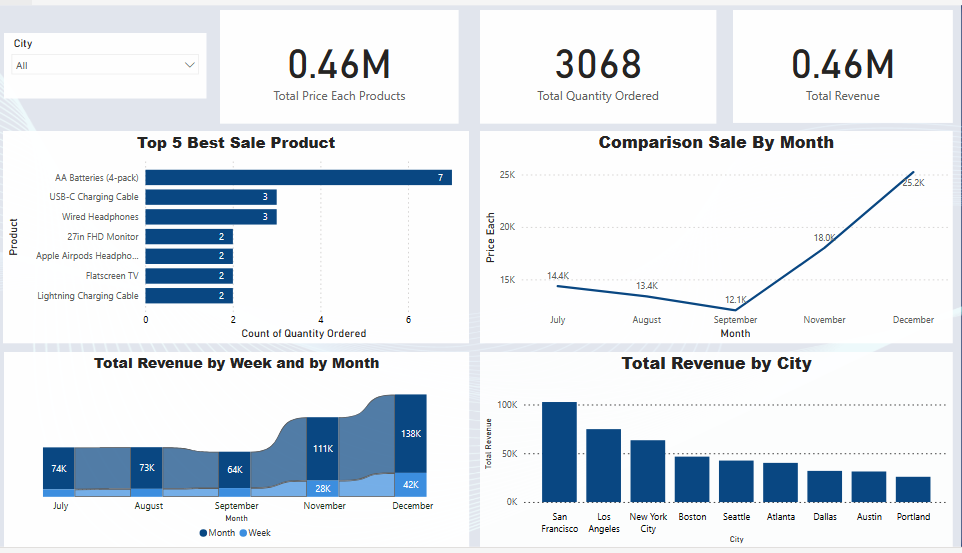

What the dashboard file says about the page in this screenshot:
{"tool":"powerbi","page":{"name":"visualisation","canvas":[1280,720],"ordinal":0},"visuals":[{"type":"card","fields":{"Values":["Sum(final_data_city.Price Each)"]},"box":[295.3,6.7,317.1,151],"z":0},{"type":"card","fields":{"Values":["Sum(final_data_city.Quantity Ordered)"]},"box":[640.8,6.7,313.7,151],"z":1000},{"type":"card","fields":{"Values":["Sum(final_data_city.Total Revenue)"]},"box":[976,7.1,292,150.2],"z":2000},{"type":"clusteredBarChart","title":"Top 5 Best Sale Product","fields":{"Category":["final_data_city.Product"],"Y":["Count(final_data_city.Quantity Ordered)"]},"box":[7.1,167.2,619.4,282],"z":3000},{"type":"lineChart","title":"Comparison Sale By Month","fields":{"Category":["final_data_city.Order Date.Variation.Date Hierarchy.Month"],"Y":["Sum(final_data_city.Price Each)"]},"box":[640.6,167.2,627.9,282],"z":4000},{"type":"ribbonChart","title":"Total Revenue by Week and  by Month","fields":{"Y":["Sum(final_data_city.Total Revenue)","Sum(final_data_city.Week)"],"Category":["final_data_city.Order Date.Variation.Date Hierarchy.Month"]},"box":[8.5,460.6,618,259.4],"z":5000},{"type":"clusteredColumnChart","fields":{"Y":["Sum(final_data_city.Total Revenue)"],"Category":["final_data_city.City"]},"box":[640.6,460.6,627.9,259.4],"z":6000},{"type":"slicer","title":"City","fields":{"Values":["final_data_city.City"]},"box":[8.2,37.1,269.5,86.6],"z":7000}]}

Visuals, with their boxes in screenshot pixels (x1, y1, x2, y2), scaled from the page's 1280x720 canvas onto the 962x553 screenshot:
card - Sum(final_data_city.Price Each): x1=222, y1=5, x2=460, y2=121
card - Sum(final_data_city.Quantity Ordered): x1=482, y1=5, x2=717, y2=121
card - Sum(final_data_city.Total Revenue): x1=734, y1=5, x2=953, y2=121
"Top 5 Best Sale Product" clusteredBarChart: x1=5, y1=128, x2=471, y2=345
"Comparison Sale By Month" lineChart: x1=481, y1=128, x2=953, y2=345
"Total Revenue by Week and  by Month" ribbonChart: x1=6, y1=354, x2=471, y2=552
clusteredColumnChart - Sum(final_data_city.Total Revenue) x final_data_city.City: x1=481, y1=354, x2=953, y2=552
"City" slicer: x1=6, y1=28, x2=209, y2=95
